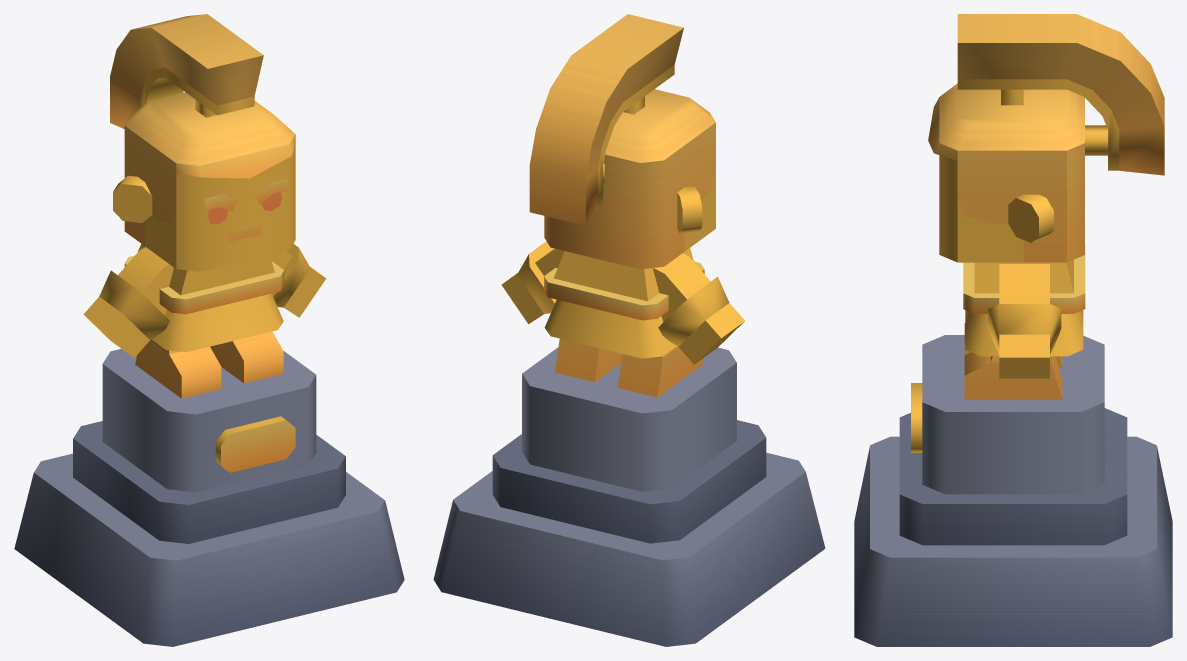
File: hero_park.glb
The picture shows the model from 3 angles, left to right: view 1: azimuth 30°, elevation 25°; view 2: azimuth 150°, elevation 25°; view 3: azimuth 270°, elevation 25°; orthographic projection. The views are drawn at different scales.
Visible parts, largest first — view 1: statue; view 2: statue; view 3: statue.
Boxes of the visible parts, left/top/right/bottom form: statue: left=14, top=14, right=404, bottom=646; statue: left=433, top=14, right=825, bottom=646; statue: left=854, top=14, right=1172, bottom=646.
Bounding box in the file's own units: 1.05 × 2 × 1.05.
1 material, 1 textured.
